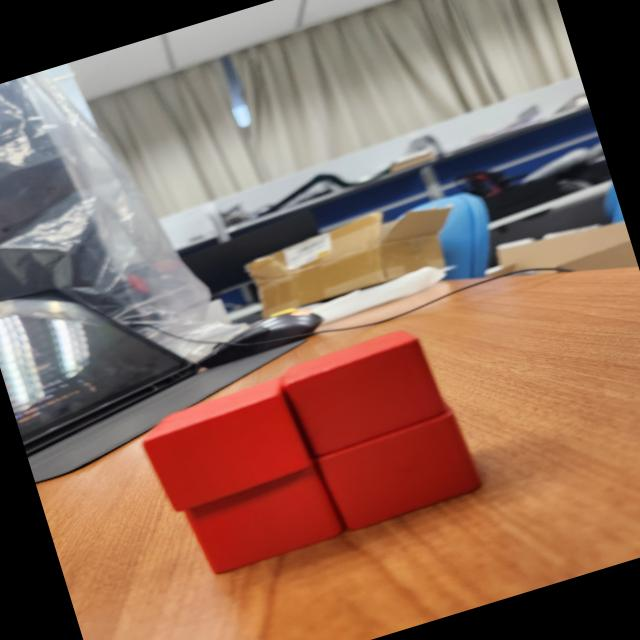red: (132, 374, 320, 518), (302, 400, 486, 538), (276, 322, 452, 458), (178, 448, 348, 579)
